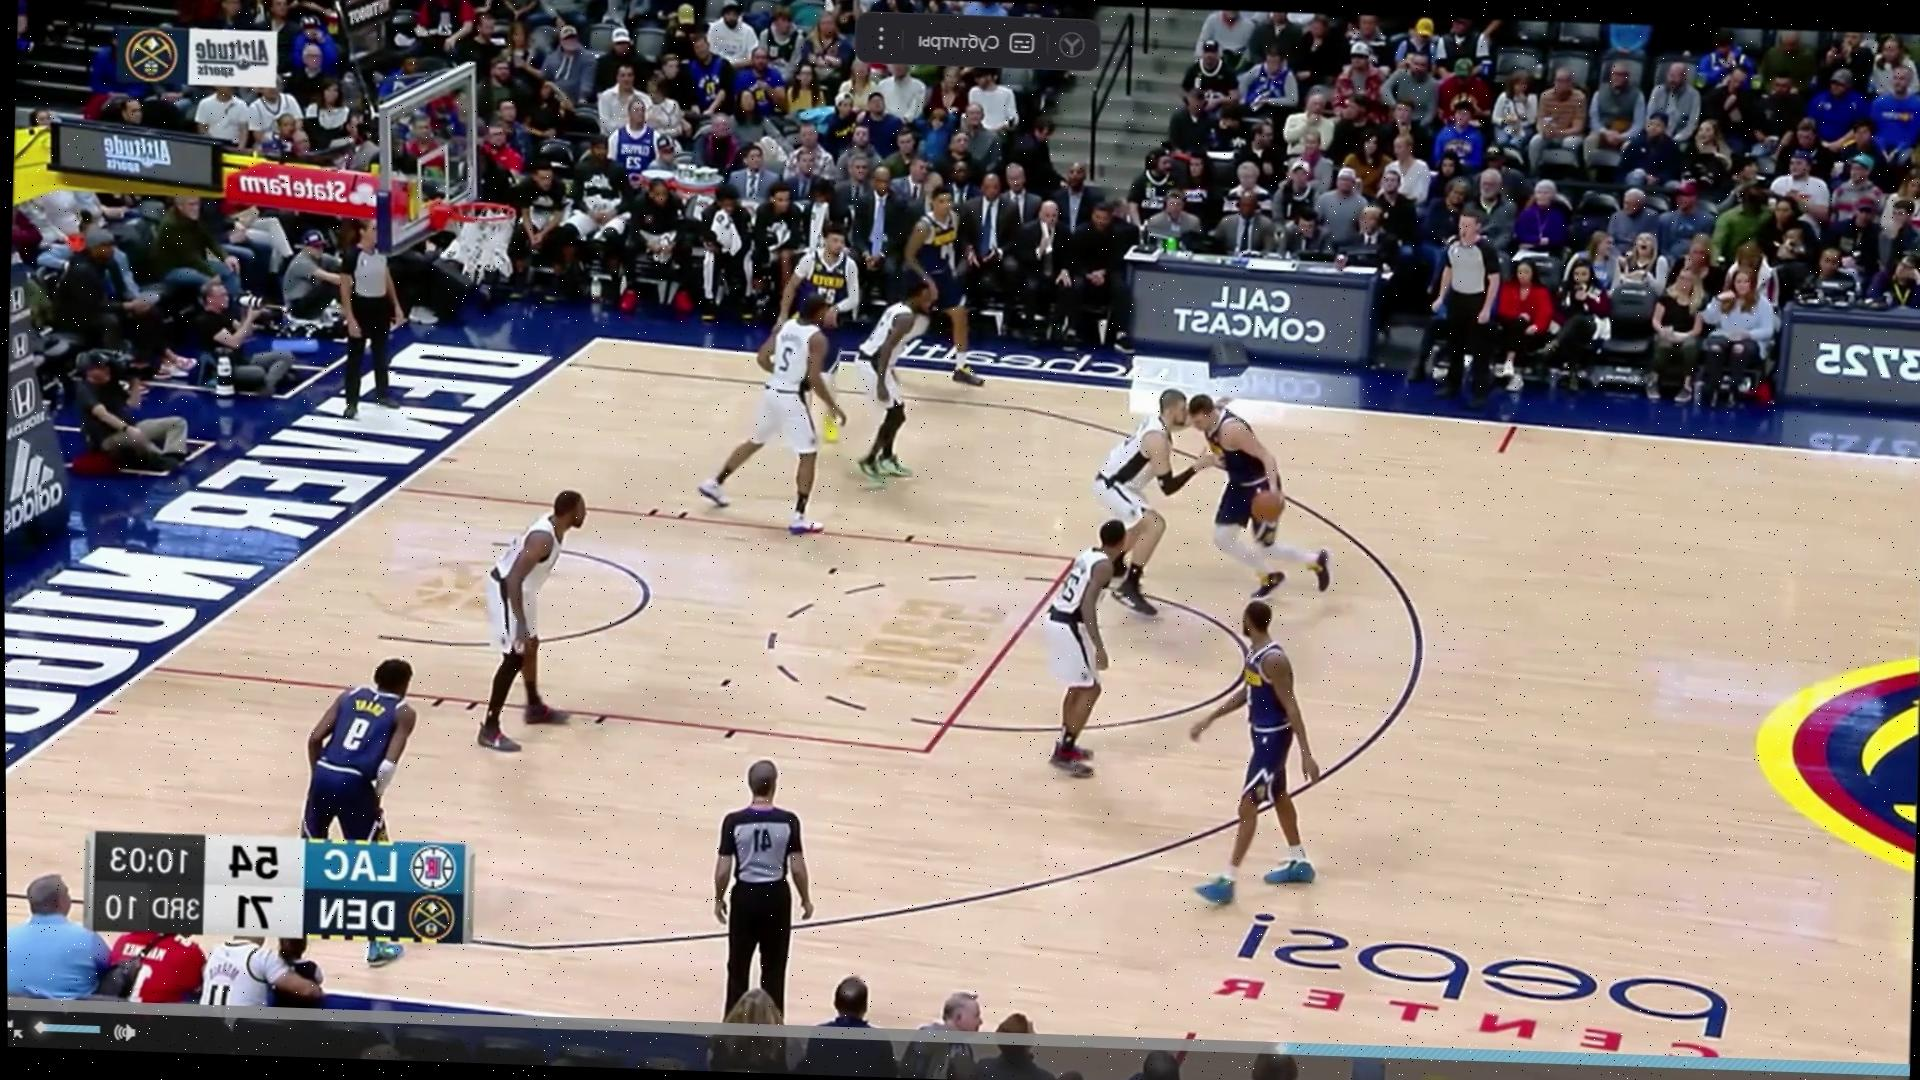foul: (1064, 374, 1286, 610)
